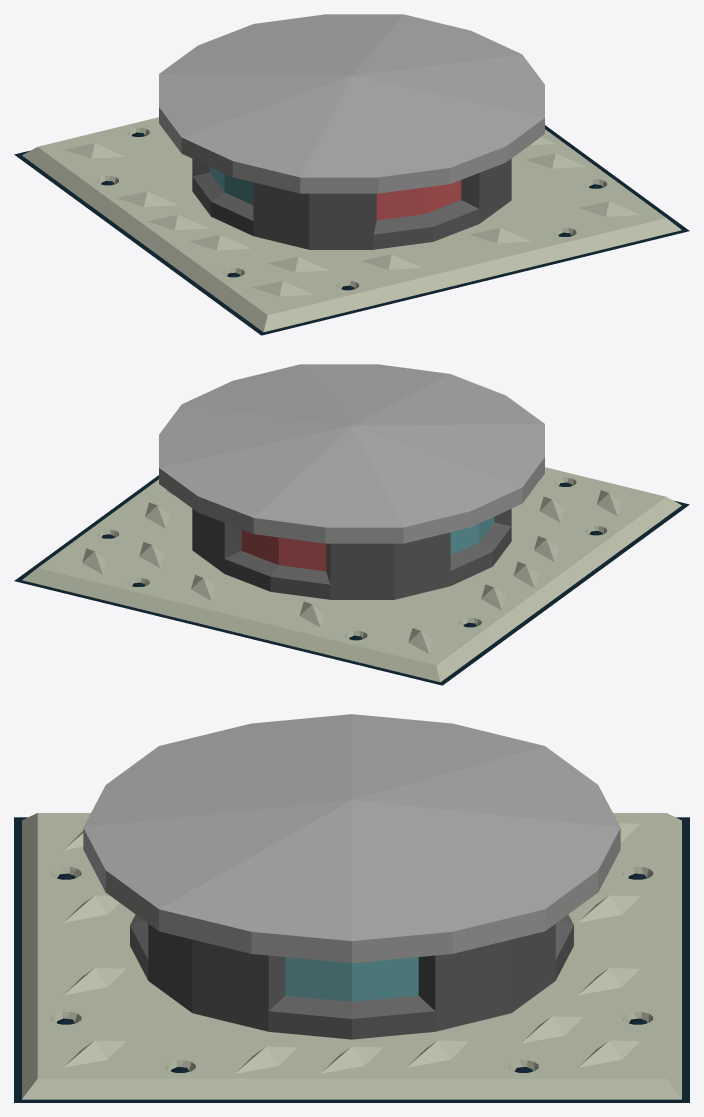
Rendered from Street Lamp.fbx.
The picture shows the model from 3 angles, top to bottom: view 1: azimuth 30°, elevation 25°; view 2: azimuth 150°, elevation 25°; view 3: azimuth 270°, elevation 25°; orthographic projection. The views are drawn at different scales.
Parts seen in each view (by area): view 1: Street_lamp_floor_level; view 2: Street_lamp_floor_level; view 3: Street_lamp_floor_level.
Boxes of the visible parts, bbox=[...] form: Street_lamp_floor_level: bbox=[14, 14, 689, 335]; Street_lamp_floor_level: bbox=[14, 364, 689, 685]; Street_lamp_floor_level: bbox=[14, 714, 689, 1102].
Bounding box in the file's own units: 107 × 28.07 × 107.
